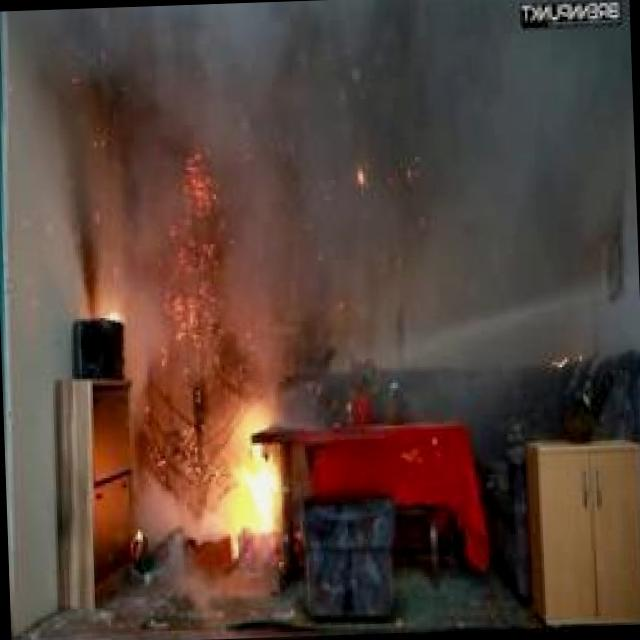fire: (190, 382, 312, 544)
